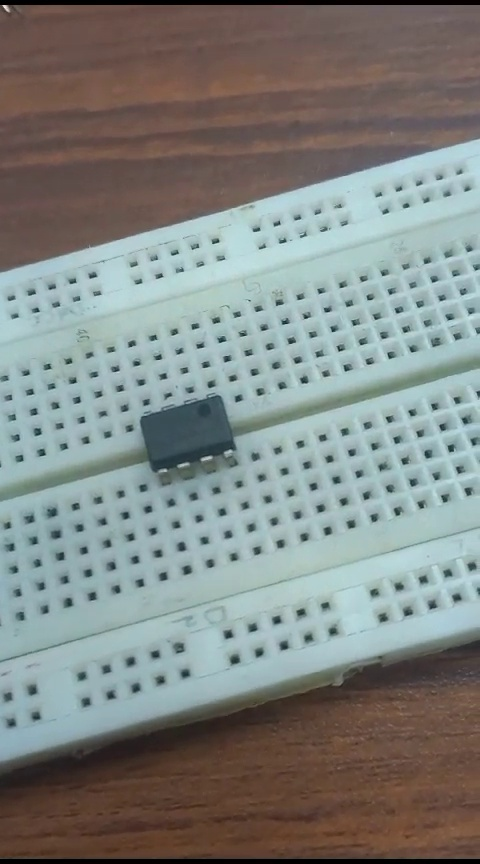IC: (136, 387, 240, 476)
